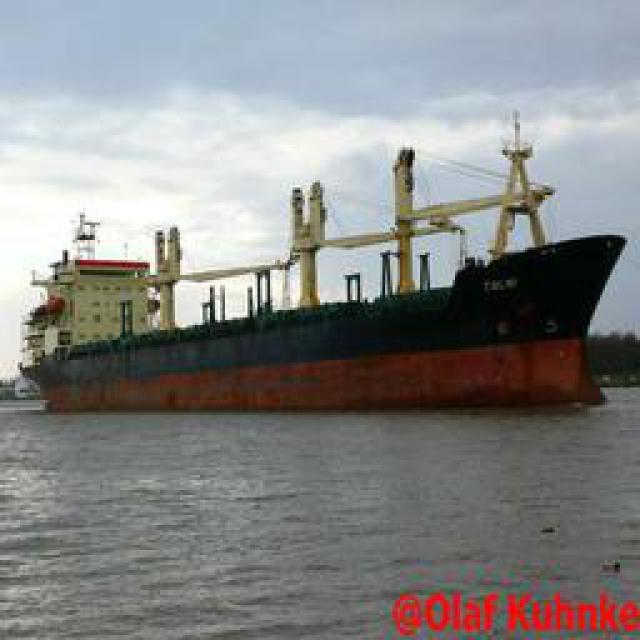Ship: (31, 231, 629, 419)
